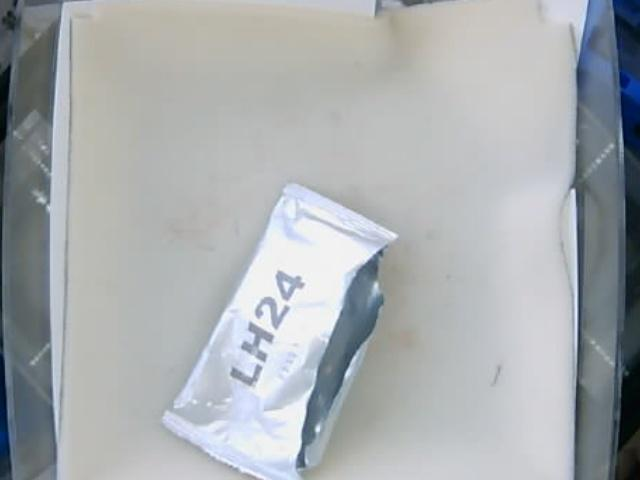Medicine: (162, 180, 398, 480)
